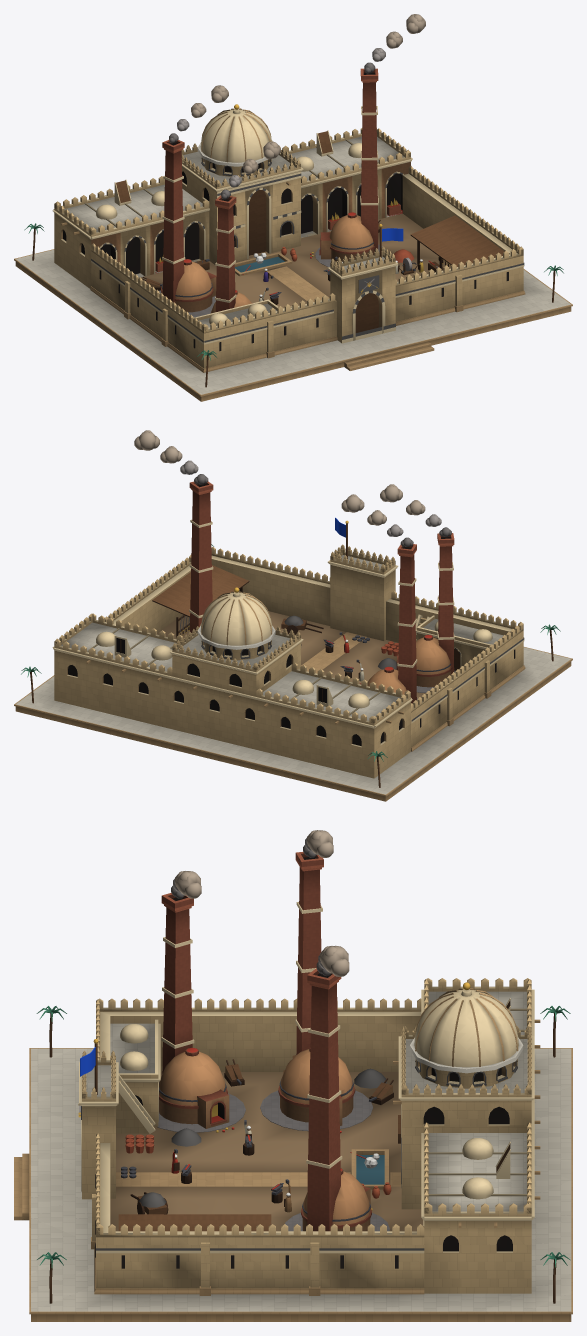
Rendered from lm_samcelik.glb.
3 renders of one model, top to bottom at view 1: azimuth 30°, elevation 25°; view 2: azimuth 150°, elevation 25°; view 3: azimuth 270°, elevation 25°, orthographic. The views are drawn at different scales.
Visible parts, largest first — view 1: lm_samcelik; view 2: lm_samcelik; view 3: lm_samcelik.
Part boxes in pixels (left/top/right/bottom): lm_samcelik: left=14, top=14, right=572, bottom=401; lm_samcelik: left=14, top=430, right=572, bottom=801; lm_samcelik: left=14, top=830, right=572, bottom=1321.
Bounding box in the file's own units: 2.21 × 1.32 × 1.98.
1 material, 1 textured.
